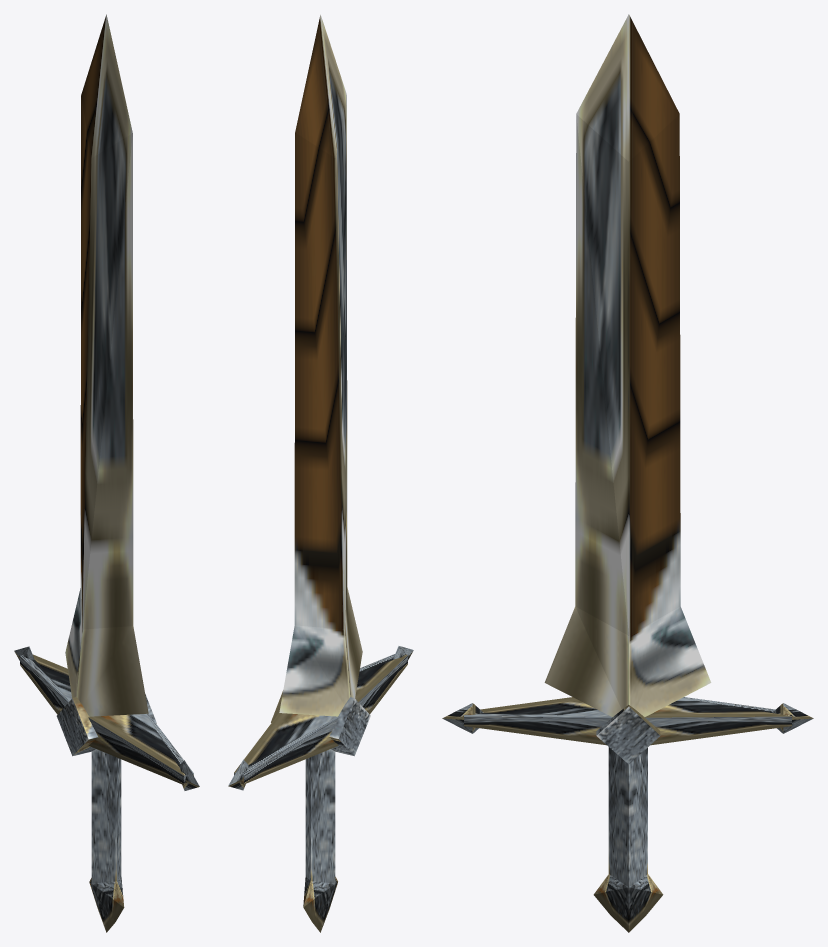
Rendered from blademaster00_1.obj.
3 views of the same model, side by side, from view 1: azimuth 30°, elevation 25°; view 2: azimuth 150°, elevation 25°; view 3: azimuth 270°, elevation 25° (orthographic).
Parts seen in each view (by area): view 1: MDL_cw1hsw00_1; view 2: MDL_cw1hsw00_1; view 3: MDL_cw1hsw00_1.
Boxes of the visible parts, box(x1,y1,x2,y2) form: MDL_cw1hsw00_1: box(14, 14, 199, 932); MDL_cw1hsw00_1: box(228, 14, 413, 932); MDL_cw1hsw00_1: box(442, 14, 813, 932).
Bounding box in the file's own units: 0.1025 × 1.32 × 0.485.
